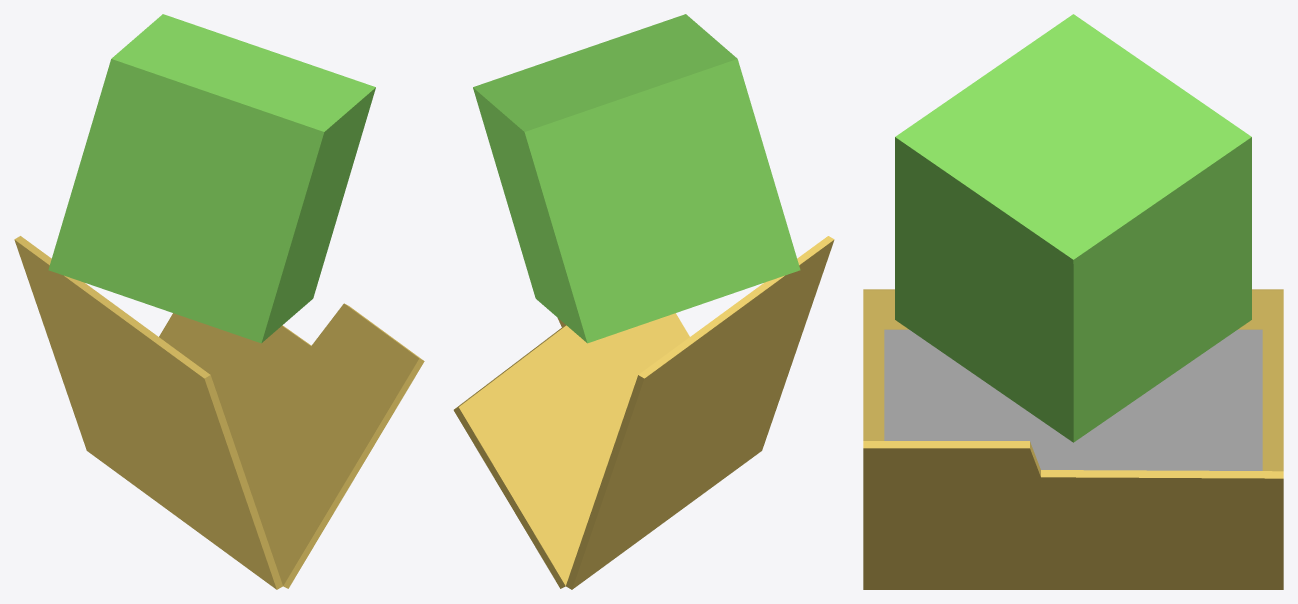
3 renders of one model, left to right at view 1: azimuth 30°, elevation 25°; view 2: azimuth 150°, elevation 25°; view 3: azimuth 270°, elevation 25°, orthographic. The views are drawn at different scales.
Visible parts, largest first — view 1: McCube, FolderFront, FolderBack; view 2: McCube, FolderBack, FolderFront; view 3: McCube, FolderFront, Paper, FolderBack.
Boxes of the visible parts, left/top/right/bottom form: McCube: left=48, top=14, right=375, bottom=343; FolderFront: left=159, top=303, right=424, bottom=588; FolderBack: left=14, top=236, right=282, bottom=589; McCube: left=473, top=14, right=800, bottom=343; FolderBack: left=566, top=236, right=834, bottom=589; FolderFront: left=453, top=313, right=689, bottom=588; McCube: left=895, top=14, right=1251, bottom=442; FolderFront: left=863, top=441, right=1283, bottom=589; Paper: left=884, top=329, right=1262, bottom=470; FolderBack: left=863, top=289, right=1283, bottom=471.
Bounding box in the file's own units: 5.97 × 8.37 × 6.
